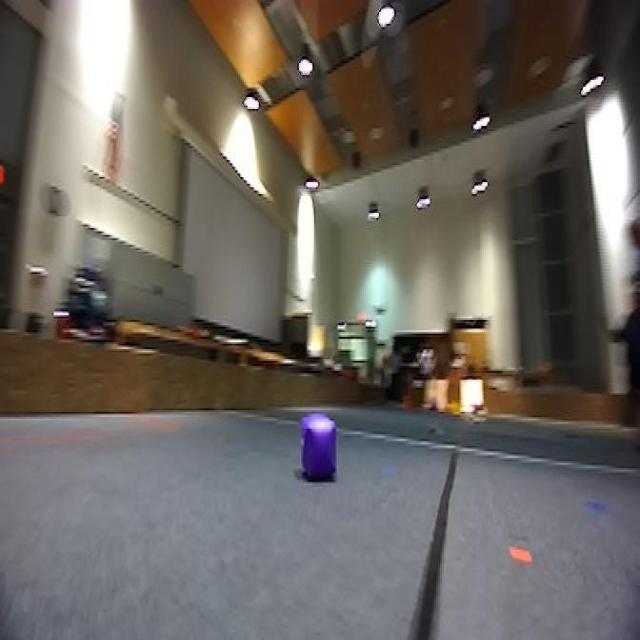frc_cube: (299, 412, 341, 483)
